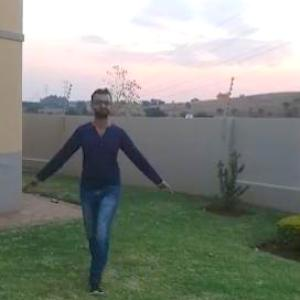land: (42, 92, 155, 289)
